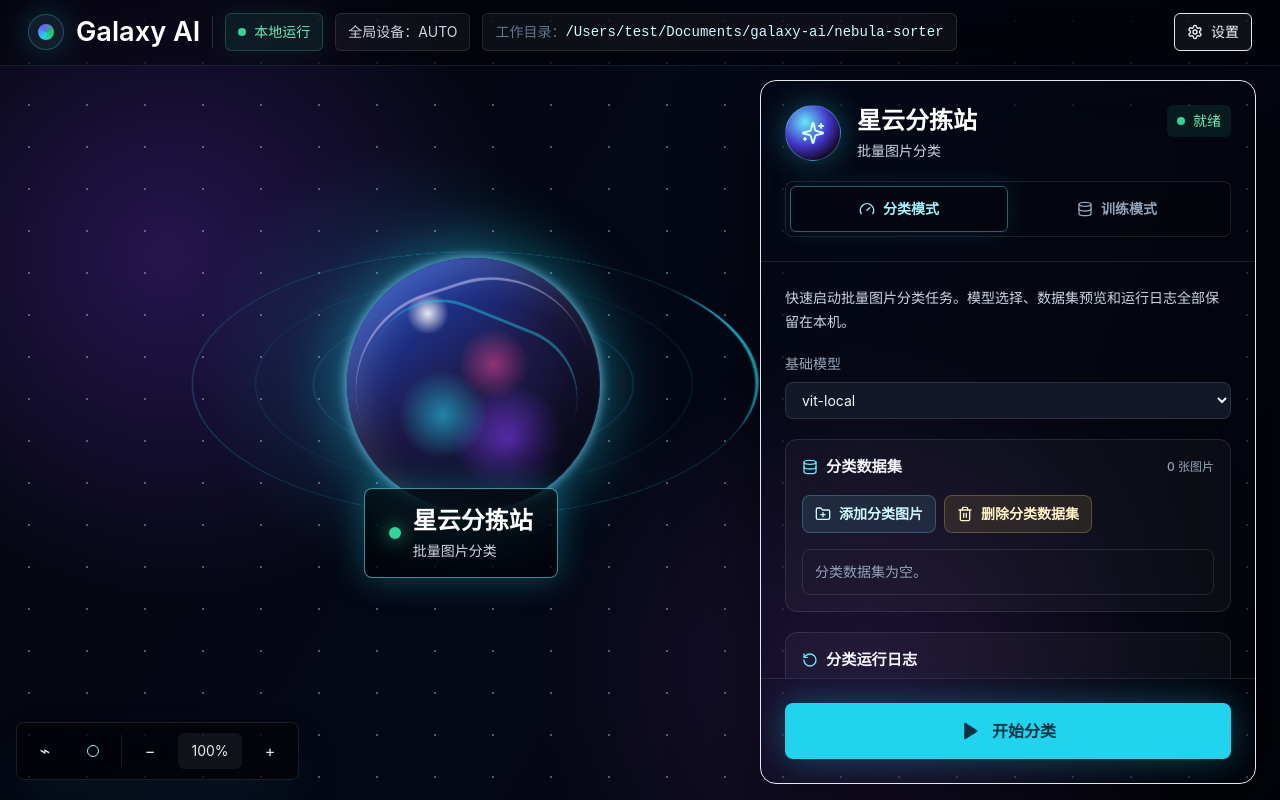
Test case: Galaxy AI home › falls back to auto when persisted settings do not include a device
Expected: the text "/Users/test/Documents/galaxy-ai/nebula-sorter" is shown, x1=566 y1=22 x2=944 y2=42
Click the button "设置" at x=1213, y=32, box x1=1174 y1=13 x2=1252 y2=51
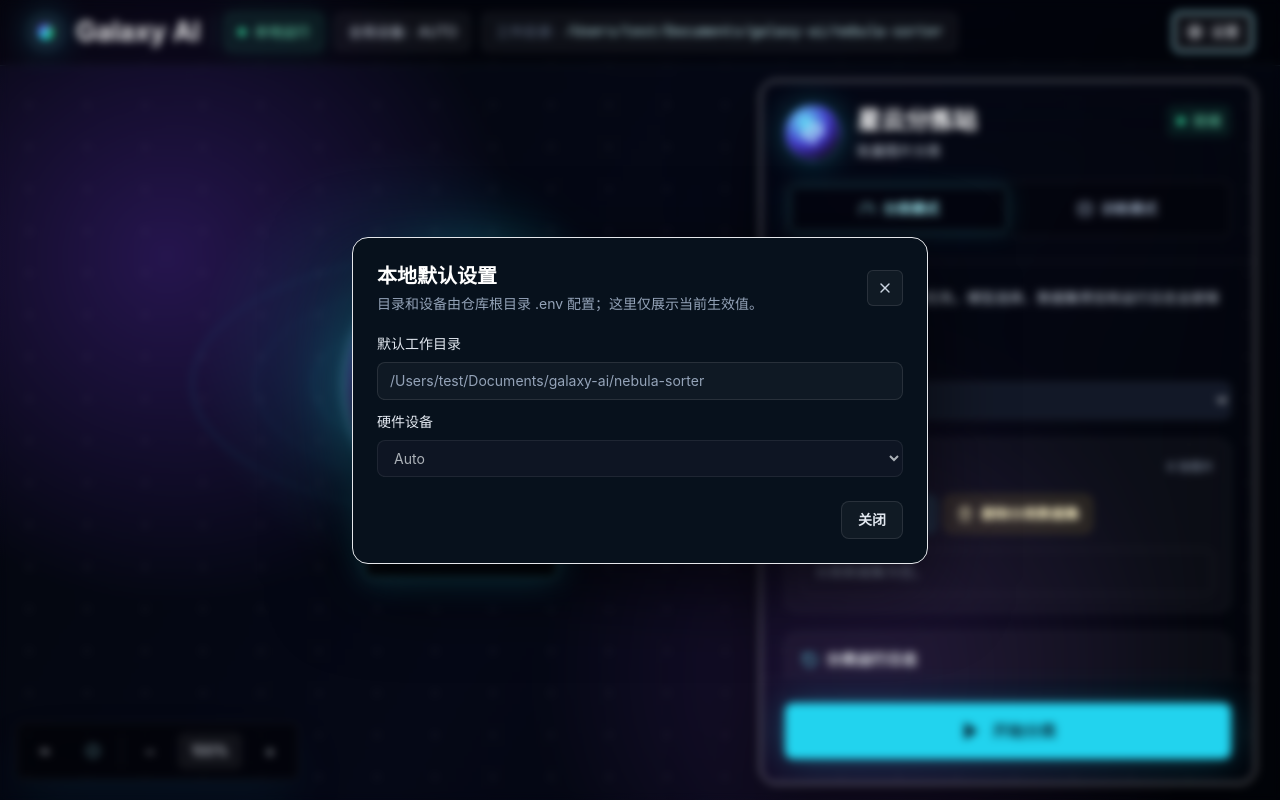
Now the dropdown labelled "硬件设备" shows "Auto", box x1=377 y1=440 x2=903 y2=476
